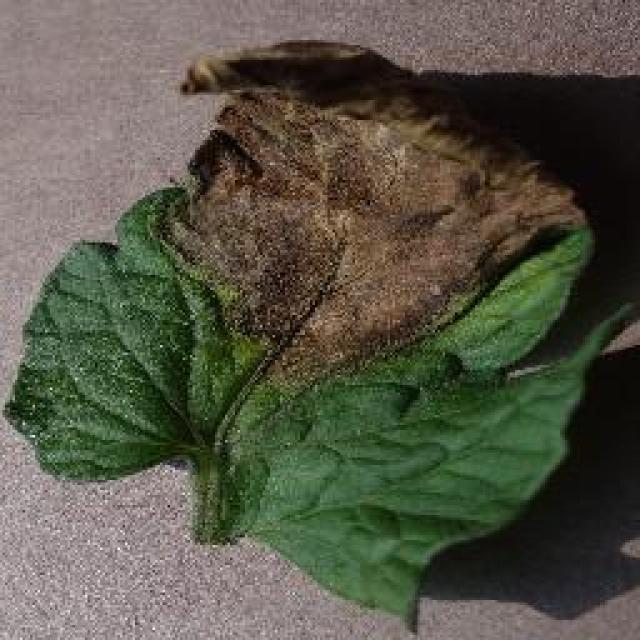Tomato_Late_Blight: (186, 29, 586, 362)
